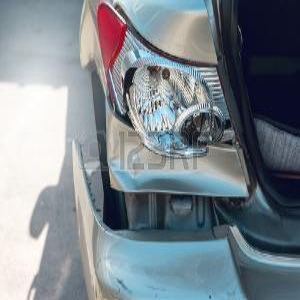bumper: (23, 161, 288, 269)
